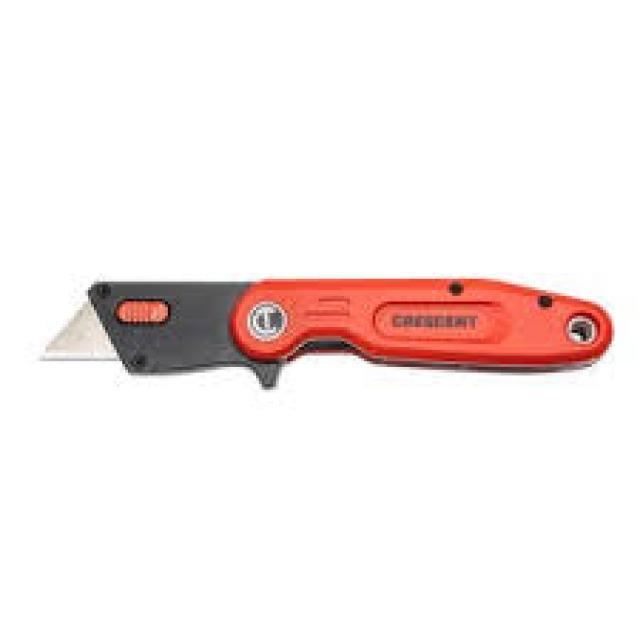cutter: (26, 264, 620, 392)
